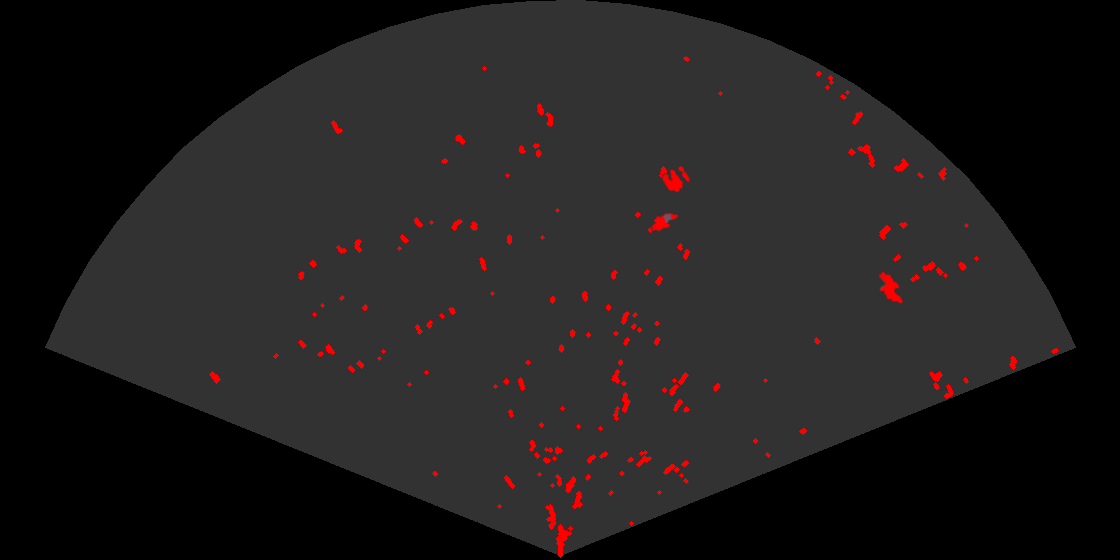AUV: (877, 270, 904, 305), (650, 211, 680, 233)
ball: (661, 165, 691, 194)
